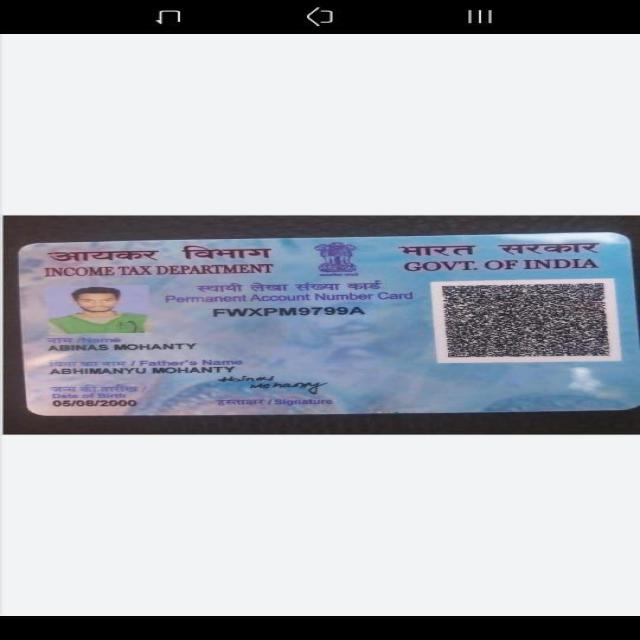pan_card: (18, 233, 640, 413)
